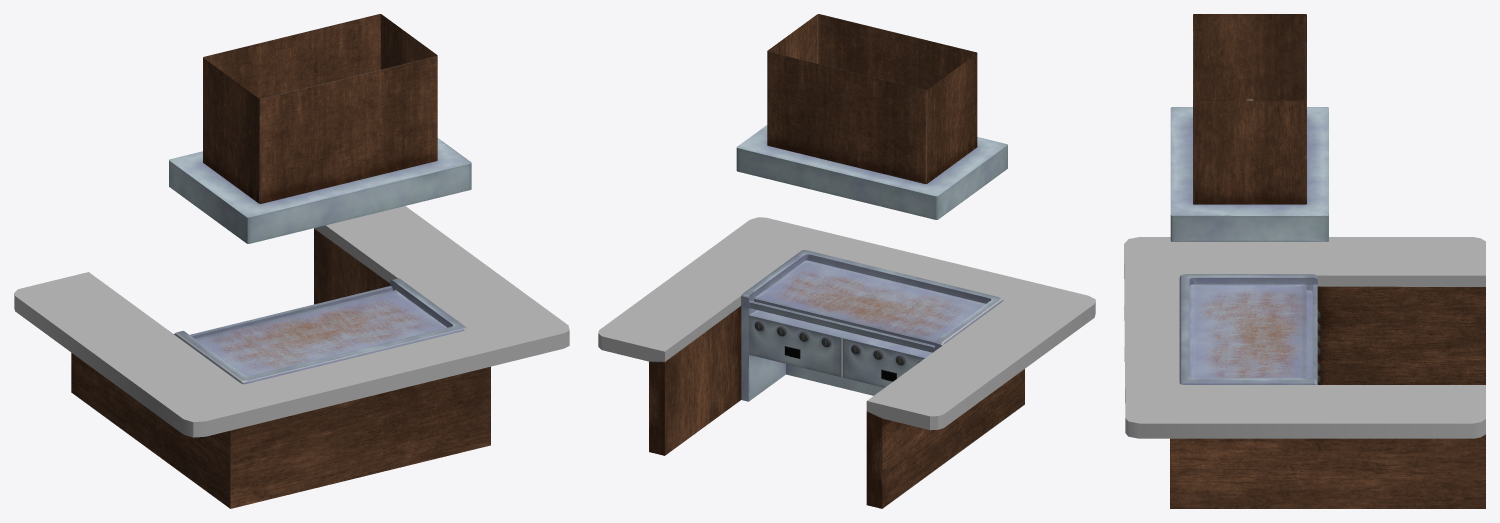
Rendered from grill.glb.
3 views of the same model, side by side, from view 1: azimuth 30°, elevation 25°; view 2: azimuth 150°, elevation 25°; view 3: azimuth 270°, elevation 25° (orthographic). The views are drawn at different scales.
Visible parts, largest first — view 1: Cube.001, Cube.002; view 2: Cube.001, Cube.002; view 3: Cube.001, Cube.002.
Part boxes in pixels (box(x1,y1,x2,y2)): Cube.001: box(14, 206, 569, 508); Cube.002: box(169, 14, 471, 243); Cube.001: box(598, 217, 1095, 508); Cube.002: box(736, 14, 1007, 219); Cube.001: box(1124, 237, 1485, 508); Cube.002: box(1170, 14, 1328, 241).
Bounding box in the file's own units: 1.42 × 1.38 × 1.16.
Materials: 2 (2 with a texture image).
